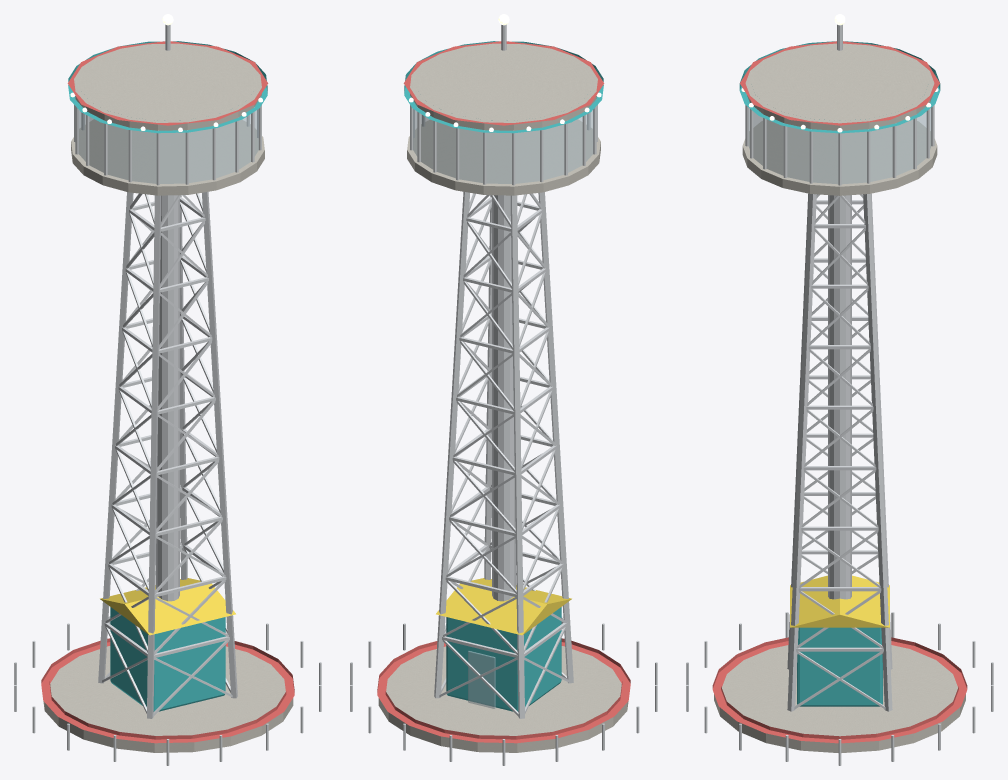
Rendered from theme-park-rides-and-coasters-theme-park-rides-and-coa-a89a7890__28664.glb.
The picture shows the model from 3 angles, left to right: view 1: azimuth 30°, elevation 25°; view 2: azimuth 150°, elevation 25°; view 3: azimuth 270°, elevation 25°; orthographic projection.
Parts seen in each view (by area): view 1: theme-park-rides-and-coasters-observation-tower, cabin/cream, cabin/glass, cabin/steel, cabin/red, cabin/teal; view 2: theme-park-rides-and-coasters-observation-tower, cabin/cream, cabin/glass, cabin/steel, cabin/red, cabin/teal; view 3: theme-park-rides-and-coasters-observation-tower, cabin/cream, cabin/glass, cabin/steel, cabin/red, cabin/teal.
Boxes of the visible parts, x1,y1,x2,y2 form: theme-park-rides-and-coasters-observation-tower: [14, 191, 321, 765]; cabin/cream: [71, 43, 264, 195]; cabin/glass: [78, 109, 258, 183]; cabin/steel: [74, 24, 261, 185]; cabin/red: [67, 41, 268, 125]; cabin/teal: [68, 41, 267, 133]; theme-park-rides-and-coasters-observation-tower: [350, 191, 657, 765]; cabin/cream: [407, 43, 600, 195]; cabin/glass: [413, 109, 593, 183]; cabin/steel: [410, 24, 597, 185]; cabin/red: [403, 41, 604, 125]; cabin/teal: [404, 41, 603, 133]; theme-park-rides-and-coasters-observation-tower: [686, 193, 993, 765]; cabin/cream: [742, 43, 937, 195]; cabin/glass: [748, 108, 931, 184]; cabin/steel: [745, 24, 934, 185]; cabin/red: [740, 41, 939, 125]; cabin/teal: [739, 41, 940, 133].
Size of the model in its own units: 10.9 by 26.4 by 10.74.
Materials: 7 (1 with a texture image).
